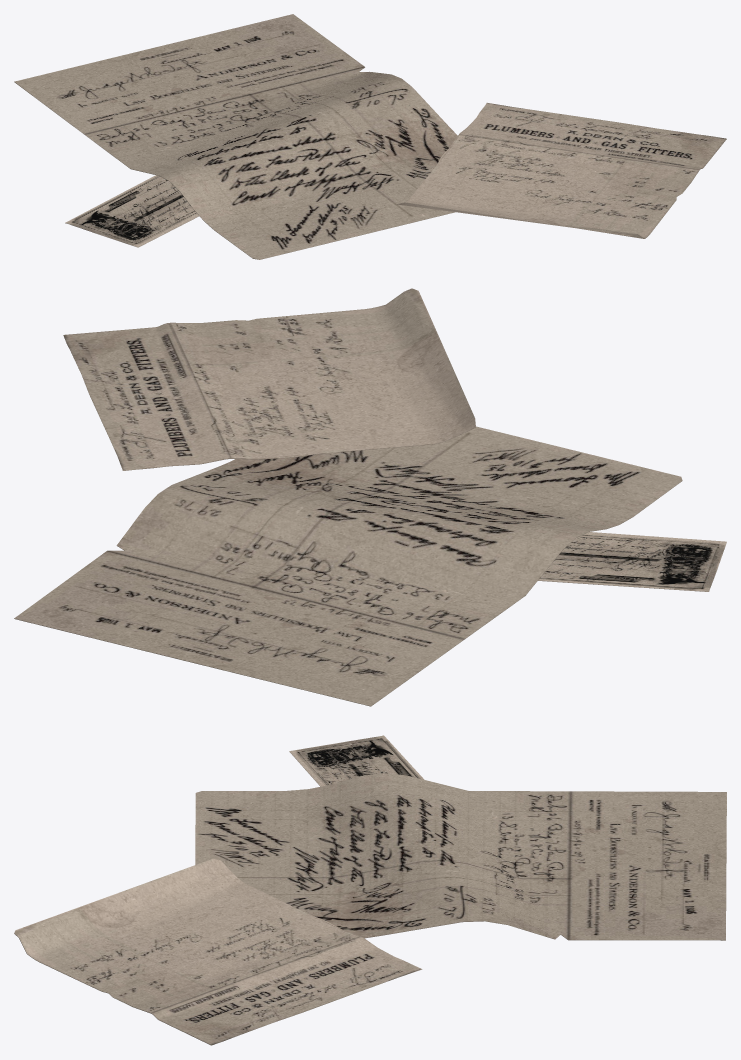
The model's file is 19th-Century Paper Clutter Documents.001.fbx.
3 renders of one model, top to bottom at view 1: azimuth 30°, elevation 25°; view 2: azimuth 150°, elevation 25°; view 3: azimuth 270°, elevation 25°, orthographic. The views are drawn at different scales.
Parts seen in each view (by area): view 1: 19th-Century Paper Clutter Documents.001; view 2: 19th-Century Paper Clutter Documents.001; view 3: 19th-Century Paper Clutter Documents.001.
Part boxes in pixels (bbox=[...]): 19th-Century Paper Clutter Documents.001: bbox=[14, 14, 726, 259]; 19th-Century Paper Clutter Documents.001: bbox=[14, 288, 726, 706]; 19th-Century Paper Clutter Documents.001: bbox=[14, 735, 726, 1045].
Size of the model in its own units: 40.26 by 1.12 by 39.15.
Materials: 2 (2 with a texture image).
